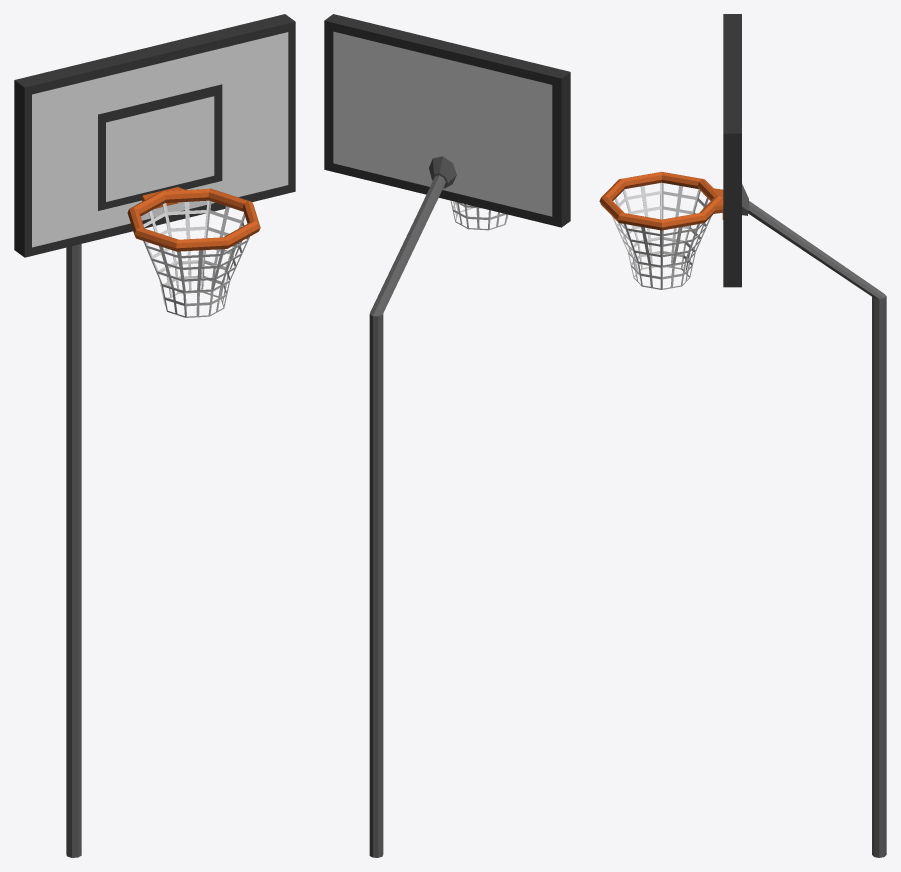
Rendered from Basketball Ring.fbx.
The picture shows the model from 3 angles, left to right: view 1: azimuth 30°, elevation 25°; view 2: azimuth 150°, elevation 25°; view 3: azimuth 270°, elevation 25°; orthographic projection. The views are drawn at different scales.
Visible parts, largest first — view 1: Backboard, Basketball Ring, Ring; view 2: Backboard, Basketball Ring, Ring; view 3: Basketball Ring, Ring, Backboard.
Part boxes in pixels (<box>): Backboard: <box>14,14,295,257</box>; Basketball Ring: <box>66,244,81,857</box>; Ring: <box>127,187,260,317</box>; Backboard: <box>324,14,570,227</box>; Basketball Ring: <box>369,156,456,857</box>; Ring: <box>450,200,508,230</box>; Basketball Ring: <box>742,184,886,857</box>; Ring: <box>599,171,723,289</box>; Backboard: <box>723,14,741,287</box>.
Bounding box in the file's own units: 780 × 2376 × 791.
